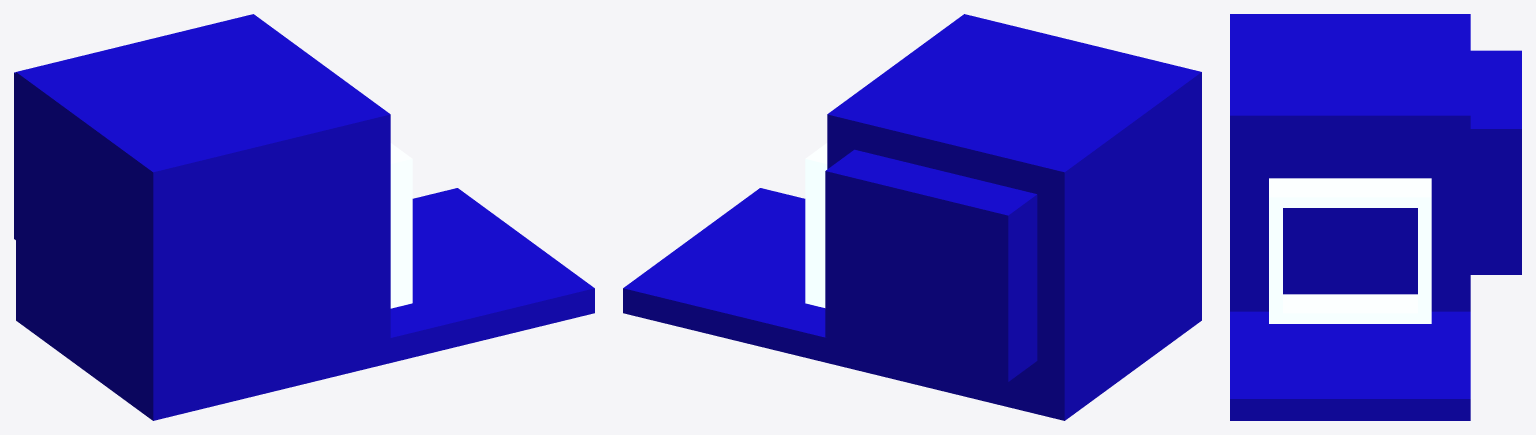
Rendered from boxattempt1.glb.
The picture shows the model from 3 angles, left to right: view 1: azimuth 30°, elevation 25°; view 2: azimuth 150°, elevation 25°; view 3: azimuth 270°, elevation 25°; orthographic projection. The views are drawn at different scales.
Visible parts, largest first — view 1: Cube, Cube.001; view 2: Cube, Cube.001; view 3: Cube, Cube.001.
Boxes of the visible parts, <box> form: Cube: <box>14,14,594,420</box>; Cube.001: <box>390,143,412,308</box>; Cube: <box>623,14,1201,420</box>; Cube.001: <box>805,143,827,307</box>; Cube: <box>1230,14,1521,420</box>; Cube.001: <box>1269,178,1431,323</box>.
Size of the model in its own units: 18.59 by 10 by 12.13.
